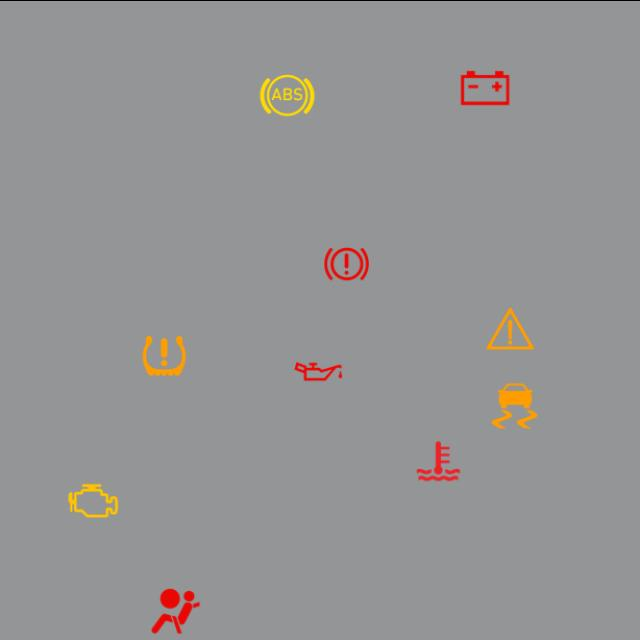Anti Lock Braking System: (257, 64, 317, 124)
Braking System Issue: (316, 233, 376, 293)
Charging System Issue: (455, 57, 515, 117)
Check Engine: (64, 470, 124, 530)
Electronic Stability Problem -ESP-: (484, 375, 544, 435)
Engine Overheating Warning Light: (408, 430, 468, 490)
Low Engine Oil Warning Light: (288, 340, 348, 400)
Low Tire Pressure Warning Light: (134, 325, 194, 385)
Master warning light: (480, 298, 540, 358)
SRS-Airbag: (145, 581, 205, 640)
